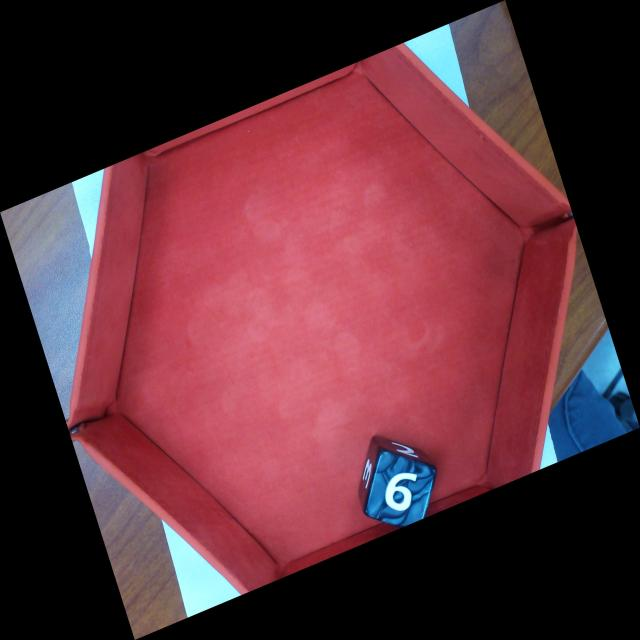dice: (365, 451, 440, 527)
